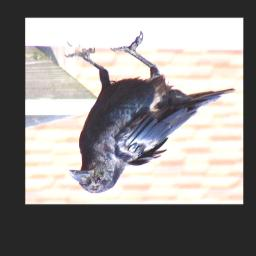Crow: (65, 30, 235, 194)
